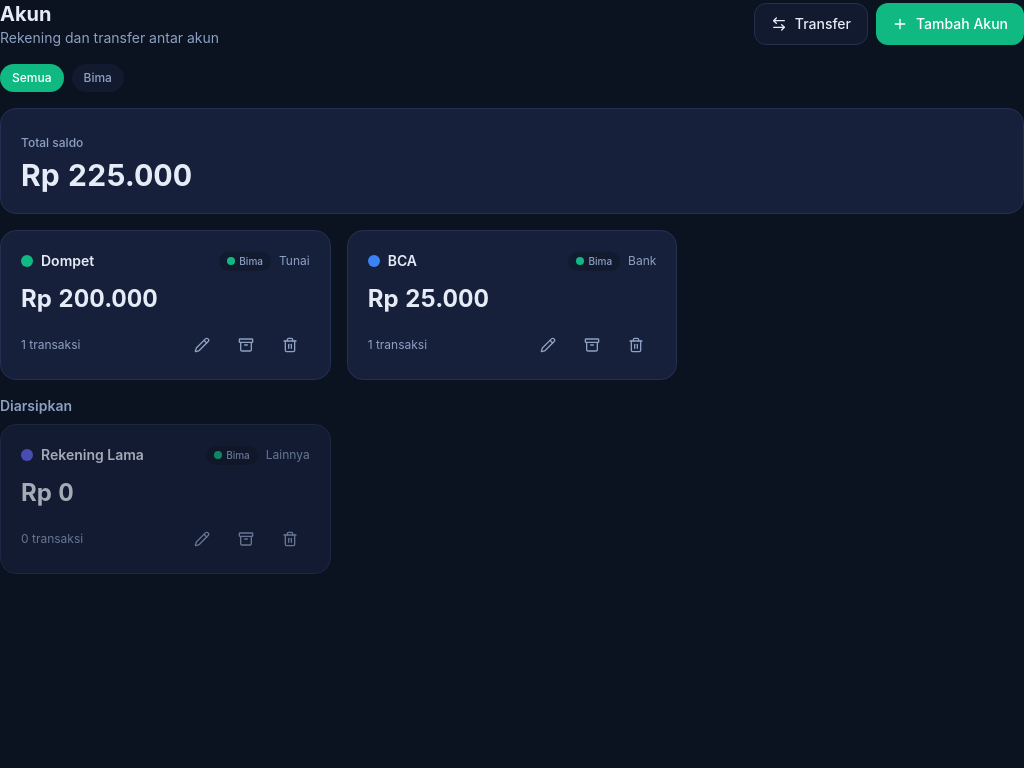
Test: AccountsPage › refuses to delete an account that has transactions and tells the user to archive it
Expected: the heading "Dompet" is shown, 41,252 -> 94,269
Step 1. Click the button named "Hapus" below "Rp 200.000" → (290, 345), box 270,331 -> 310,359
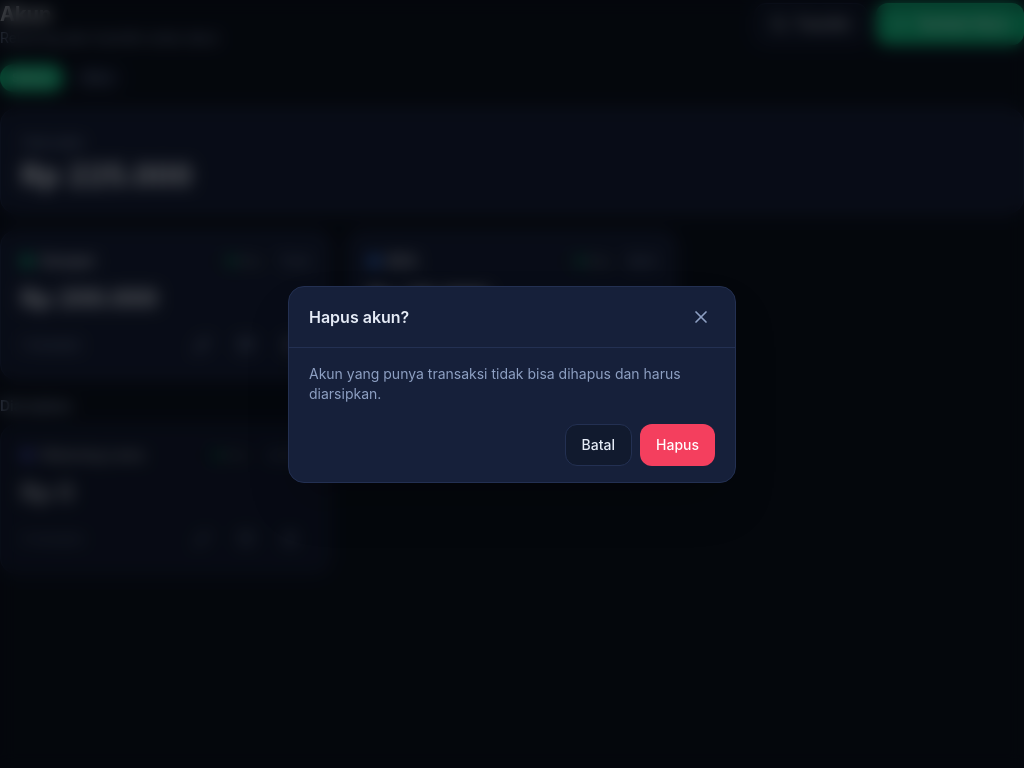
Expected: the heading "Hapus akun?" is shown, 309,304 -> 409,328
Step 2. Click the button "Hapus" → (678, 444), box 640,424 -> 715,466
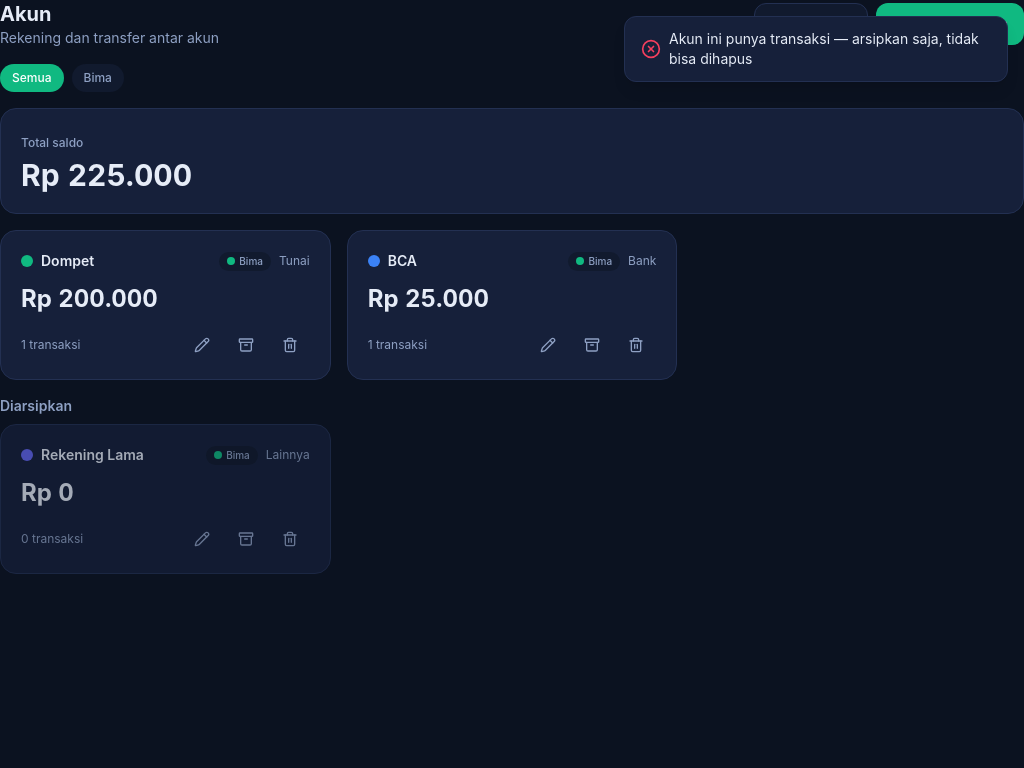
Expected: the text "Akun ini punya transaksi — arsipkan saja, tidak bisa dihapus" is shown, 669,29 -> 991,69
